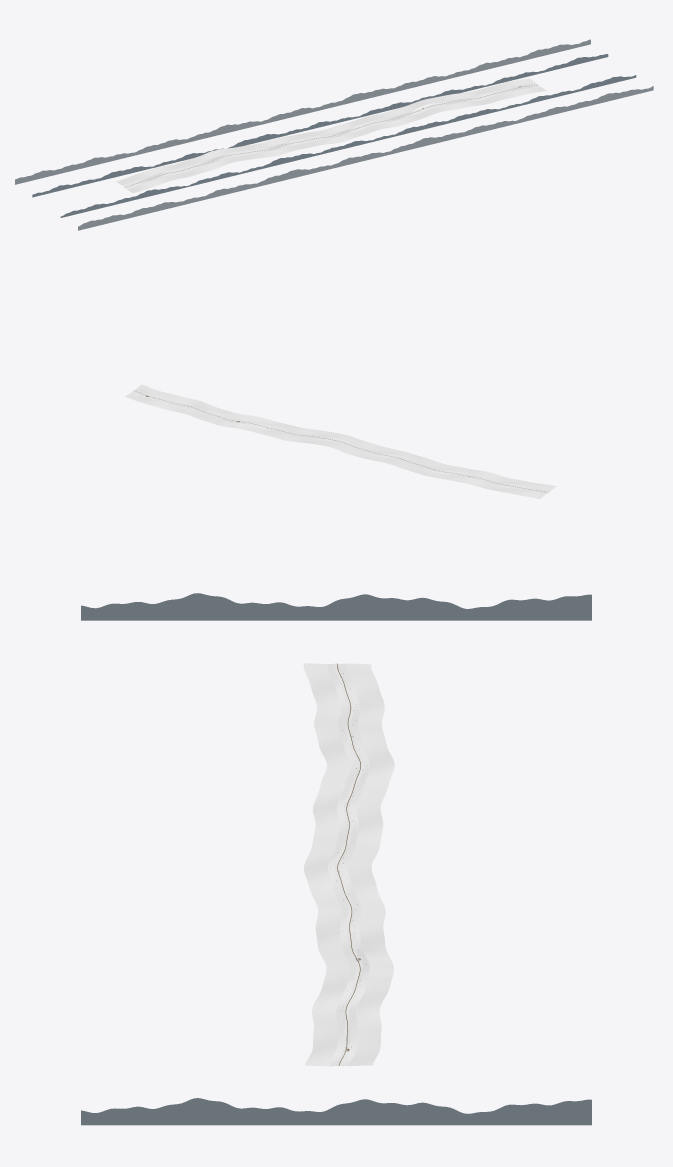
The model's file is provence.glb.
The picture shows the model from 3 angles, top to bottom: view 1: azimuth 30°, elevation 25°; view 2: azimuth 150°, elevation 25°; view 3: azimuth 270°, elevation 25°; orthographic projection. The views are drawn at different scales.
Parts seen in each view (by area): view 1: Peaks; view 2: no part large enough to name; view 3: Peaks.
Part boxes in pixels (bbox=[...]): Peaks: bbox=[15, 39, 653, 230]; Peaks: bbox=[81, 593, 591, 1125].
Bounding box in the file's own units: 25935 × 2738 × 9960.
